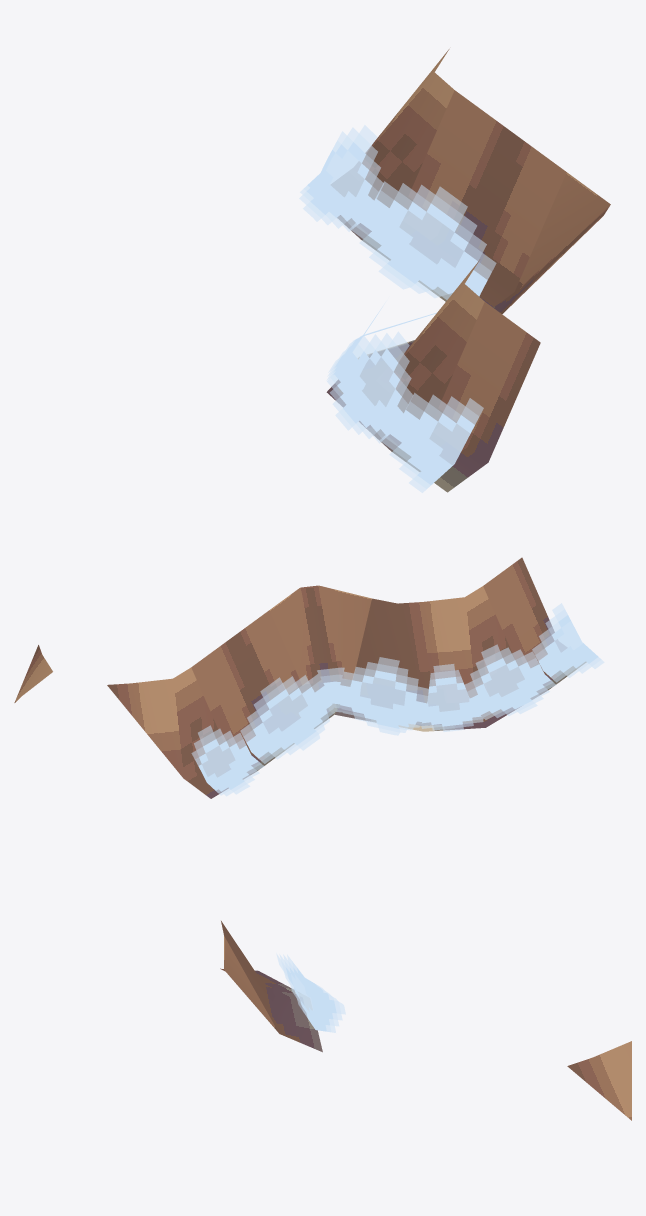
3 renders of one model, top to bottom at view 1: azimuth 30°, elevation 25°; view 2: azimuth 150°, elevation 25°; view 3: azimuth 270°, elevation 25°, orthographic. The views are drawn at different scales.
Bounding box in the file's own units: 3 × 0.7266 × 3.
3 materials, 3 textured.
